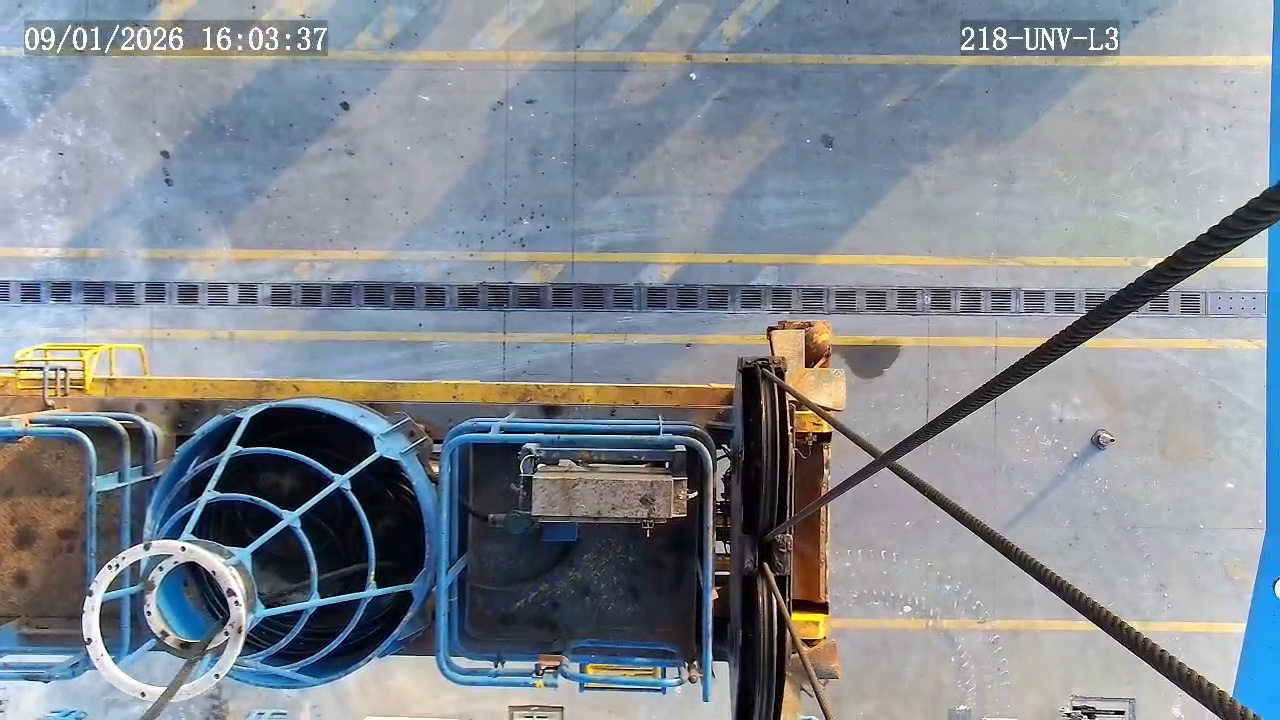right: (139, 404, 430, 690)
